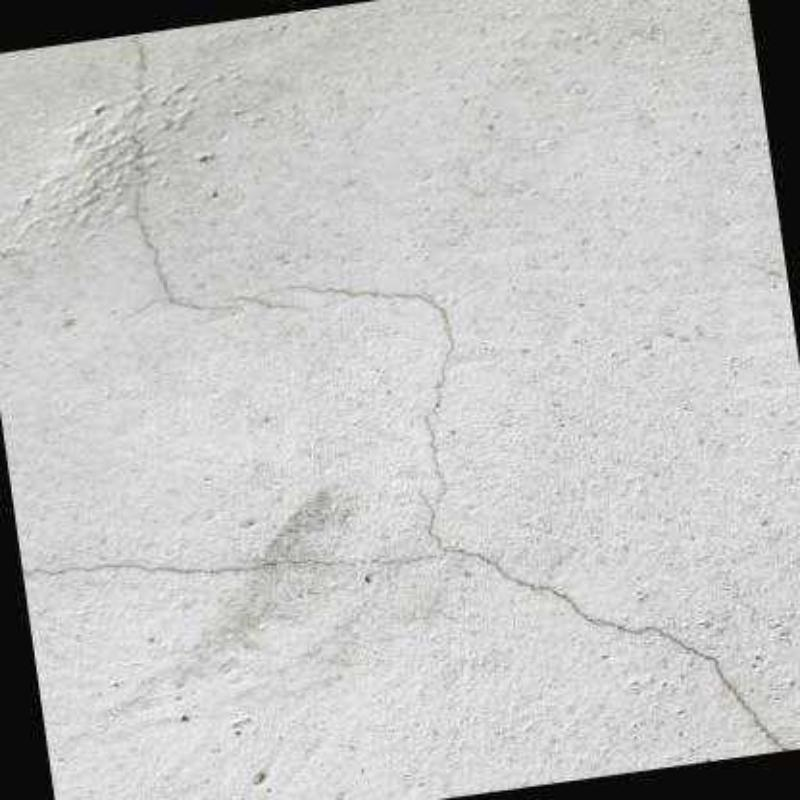pothole: (20, 488, 789, 749), (278, 284, 460, 494), (126, 33, 236, 311), (236, 296, 304, 311)
